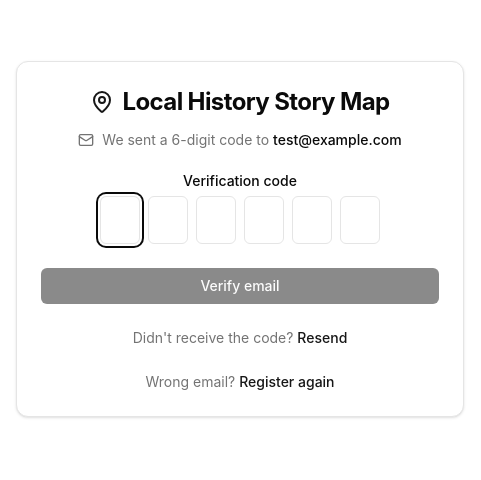
VerifyEmailPage › shows inline error for invalid code
Type keys "123456"
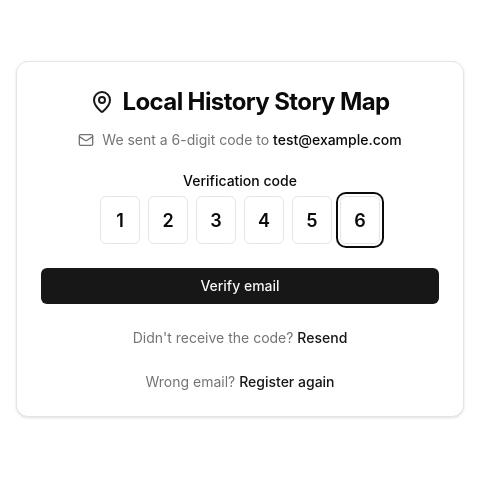
Click the button "Verify email".
click(240, 286)  # box [41,268,439,304]
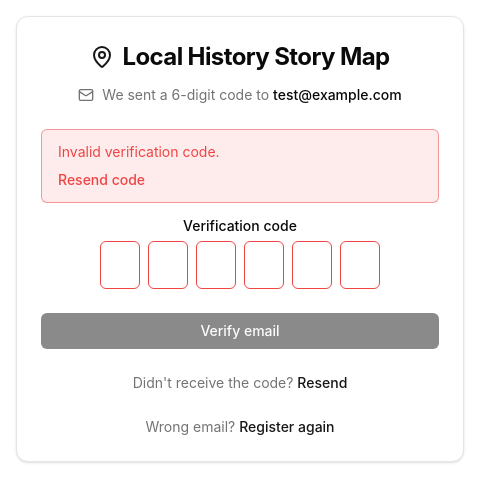
Result: the text "Invalid verification code." is shown at [58,143,220,160]
